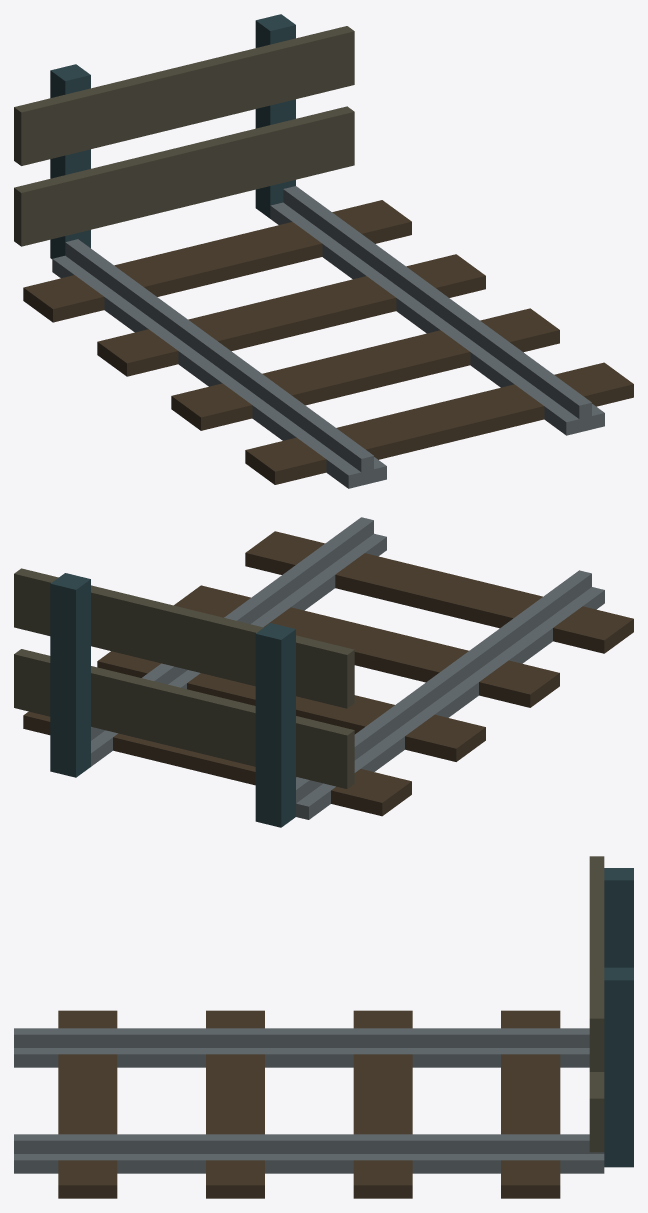
The model's file is railway_end.obj.
3 renders of one model, top to bottom at view 1: azimuth 30°, elevation 25°; view 2: azimuth 150°, elevation 25°; view 3: azimuth 270°, elevation 25°, orthographic.
Size of the model in its own units: 2.8 by 1.4 by 4.2.
1 material, 1 textured.
